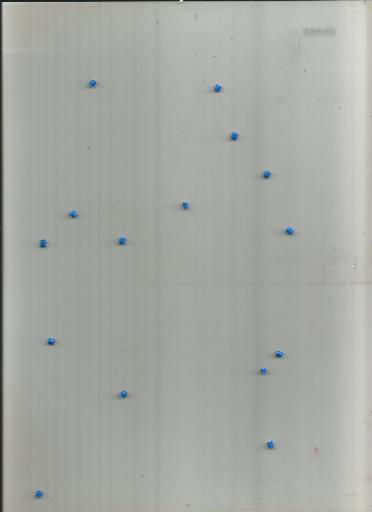Pellet: (284, 226, 295, 236), (263, 171, 273, 181), (119, 390, 129, 399), (229, 133, 239, 142), (47, 337, 56, 346), (69, 210, 78, 219), (117, 236, 126, 245), (34, 489, 42, 499), (275, 350, 283, 358), (181, 202, 189, 210), (268, 440, 274, 449), (40, 239, 46, 248), (260, 367, 266, 375)
